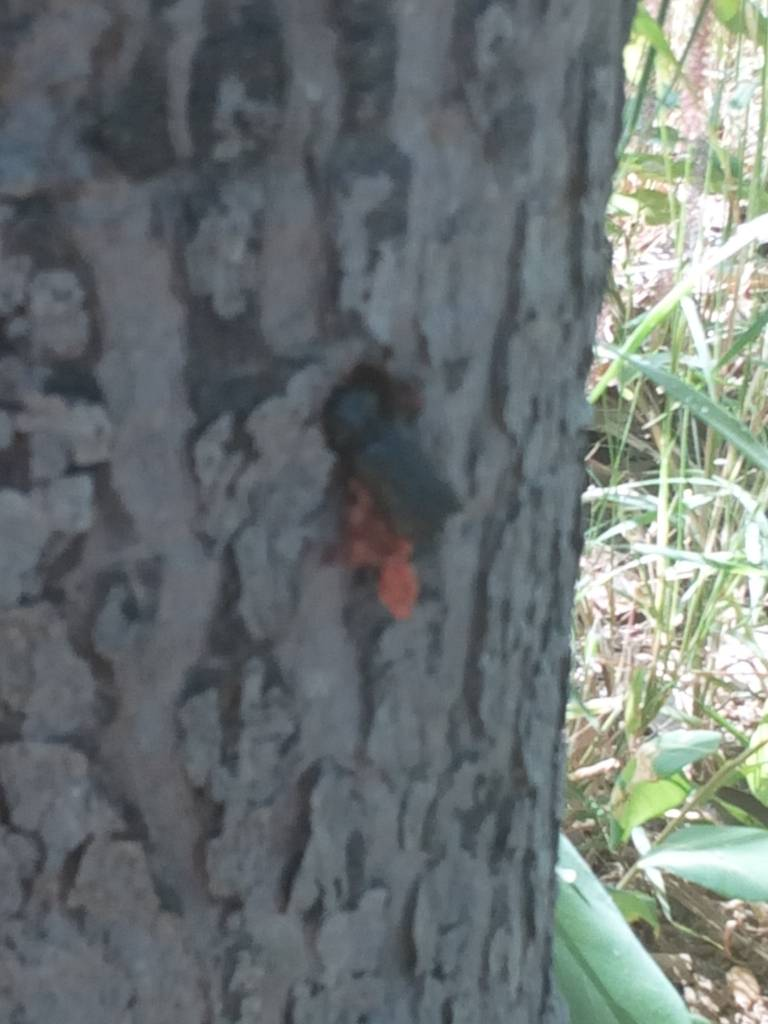Apate terebrans: (282, 338, 530, 644)
